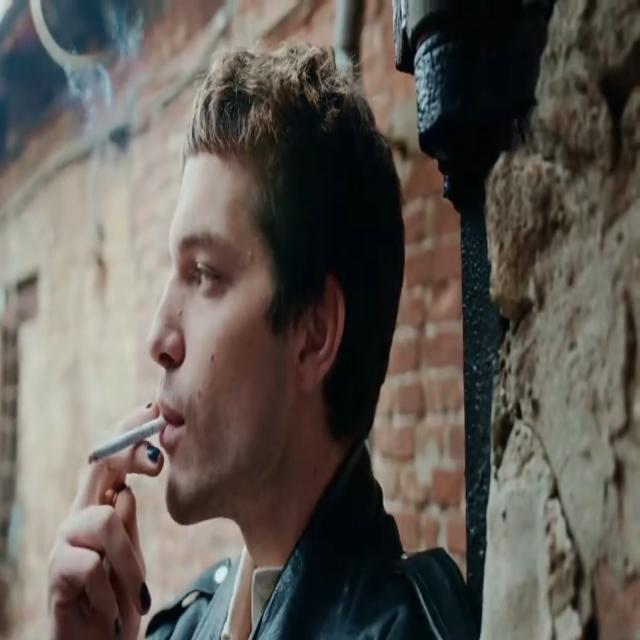Курение: (84, 409, 169, 470)
